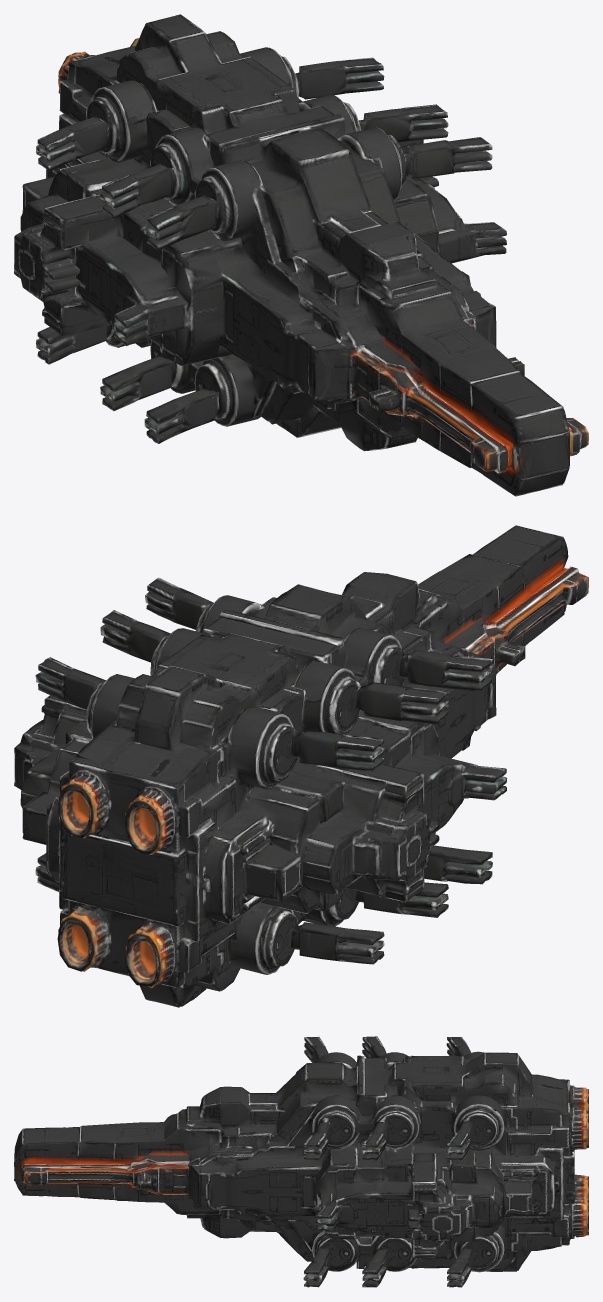
File: Enemigo4.glb
The picture shows the model from 3 angles, top to bottom: view 1: azimuth 30°, elevation 25°; view 2: azimuth 150°, elevation 25°; view 3: azimuth 270°, elevation 25°; orthographic projection. The views are drawn at different scales.
Parts seen in each view (by area): view 1: tripo_node_91bd3b03-454e-4705-a6e4-b0f6c154a761; view 2: tripo_node_91bd3b03-454e-4705-a6e4-b0f6c154a761; view 3: tripo_node_91bd3b03-454e-4705-a6e4-b0f6c154a761.
Part boxes in pixels (left/top/right/bottom): tripo_node_91bd3b03-454e-4705-a6e4-b0f6c154a761: left=14, top=14, right=588, bottom=496; tripo_node_91bd3b03-454e-4705-a6e4-b0f6c154a761: left=14, top=525, right=588, bottom=1007; tripo_node_91bd3b03-454e-4705-a6e4-b0f6c154a761: left=14, top=1036, right=588, bottom=1287.
Bounding box in the file's own units: 0.5019 × 0.3923 × 0.9791.
1 material, 1 textured.
